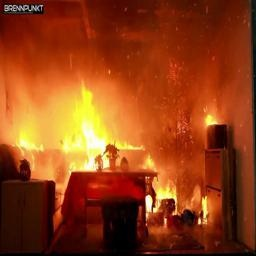fire: (1, 51, 141, 147)
